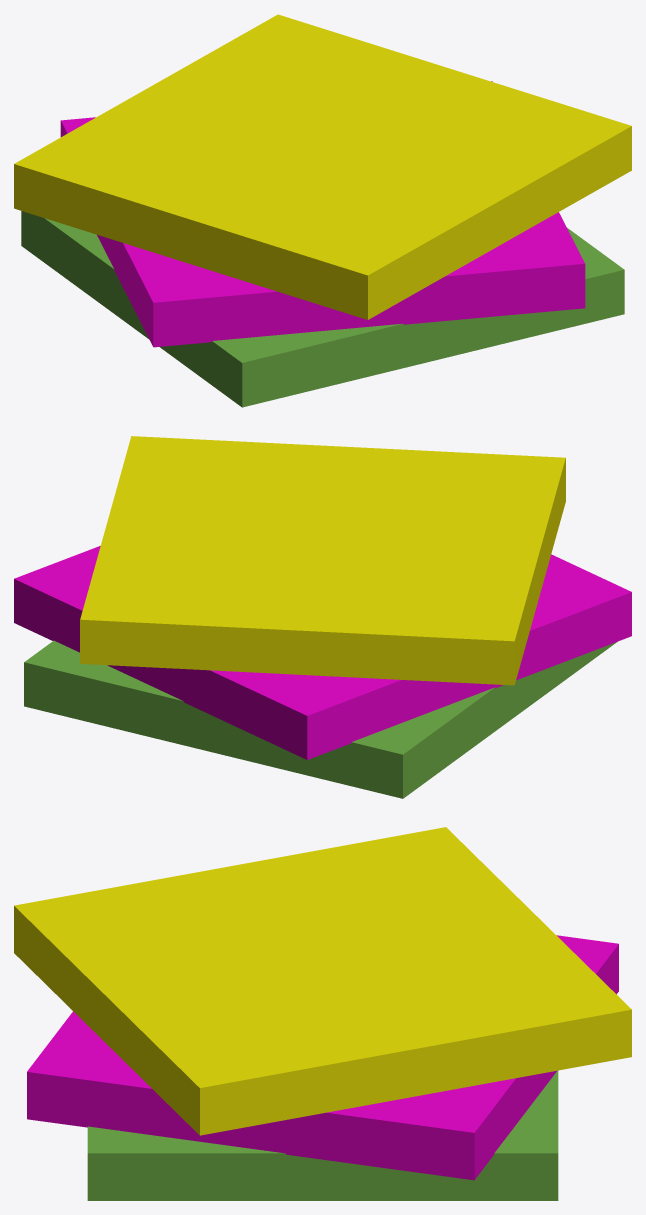
Rendered from StickyNotes.fbx.
3 views of the same model, one above another, from view 1: azimuth 30°, elevation 25°; view 2: azimuth 150°, elevation 25°; view 3: azimuth 270°, elevation 25° (orthographic). The views are drawn at different scales.
Parts seen in each view (by area): view 1: Sticky_Notes; view 2: Sticky_Notes; view 3: Sticky_Notes.
Boxes of the visible parts, x1=… form: Sticky_Notes: x1=14, y1=14, x2=631, y2=407; Sticky_Notes: x1=14, y1=436, x2=631, y2=798; Sticky_Notes: x1=14, y1=827, x2=631, y2=1200.
Bounding box in the file's own units: 0.2399 × 0.0617 × 0.2399.
